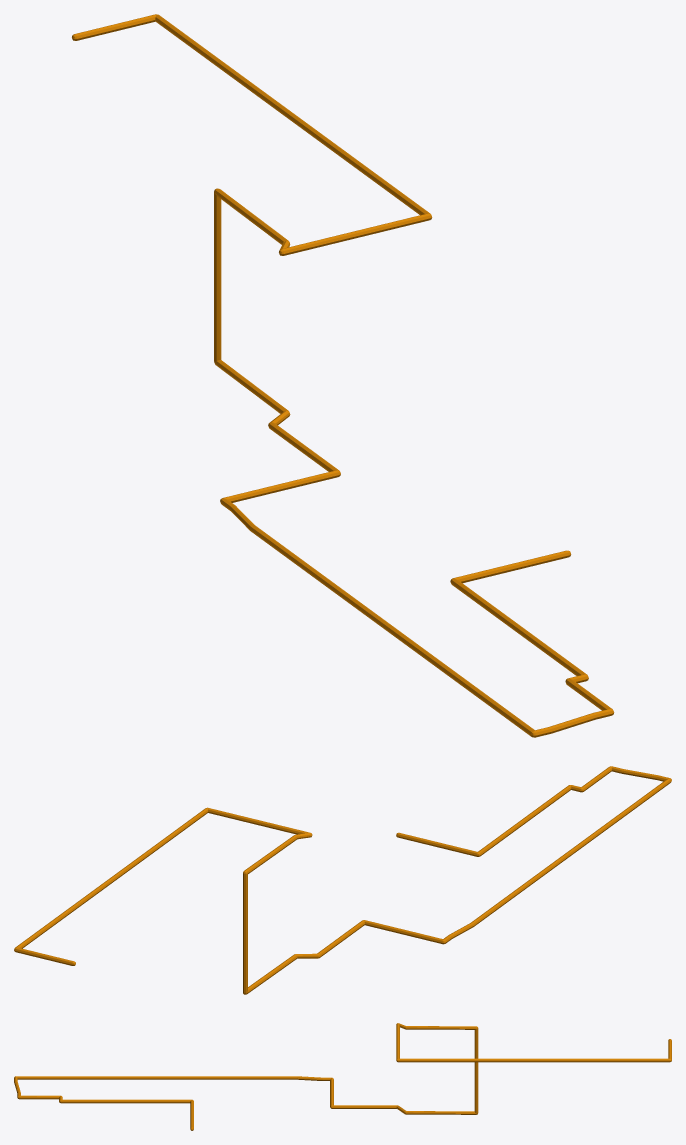
The picture shows the model from 3 angles, top to bottom: view 1: azimuth 30°, elevation 25°; view 2: azimuth 150°, elevation 25°; view 3: azimuth 270°, elevation 25°; orthographic projection. The views are drawn at different scales.
Bounding box in the file's own units: 871 × 520 × 3507.
